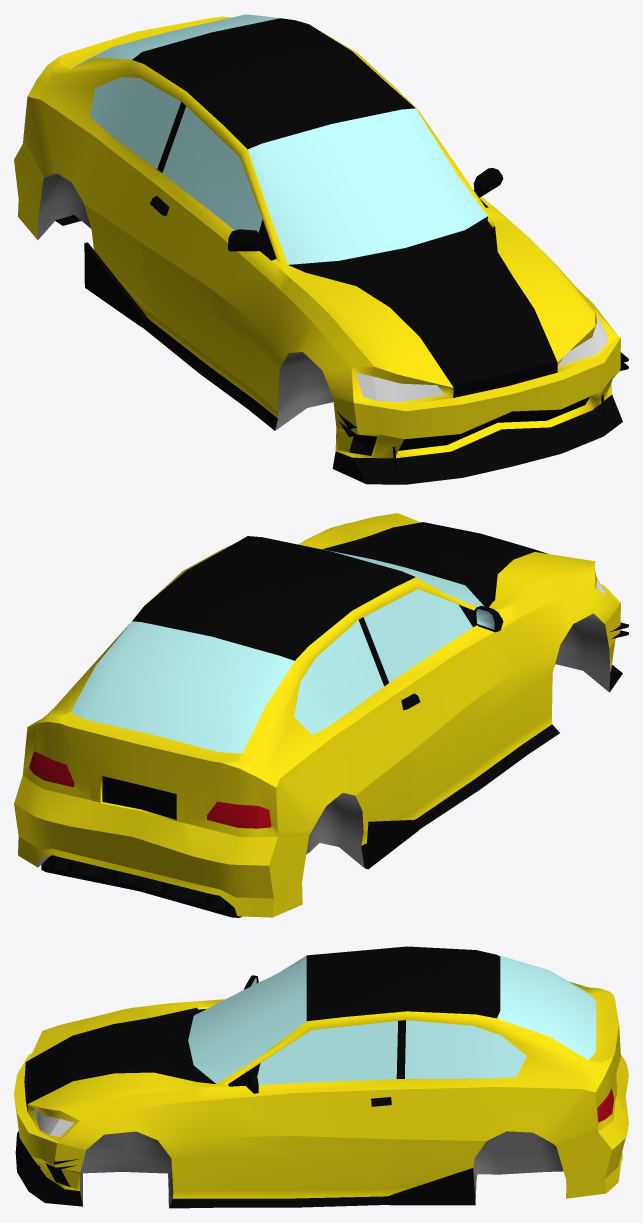
The model's file is S64Compact_Body_3.fbx.
The picture shows the model from 3 angles, top to bottom: view 1: azimuth 30°, elevation 25°; view 2: azimuth 150°, elevation 25°; view 3: azimuth 270°, elevation 25°; orthographic projection. The views are drawn at different scales.
Parts seen in each view (by area): view 1: Cube.003; view 2: Cube.003; view 3: Cube.003.
Boxes of the visible parts, x1,y1,x2,y2 form: Cube.003: [14, 14, 628, 484]; Cube.003: [14, 513, 628, 917]; Cube.003: [14, 946, 628, 1208].
Bounding box in the file's own units: 141 × 104 × 326.
